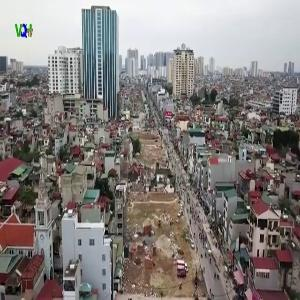drone: (172, 82, 214, 124)
